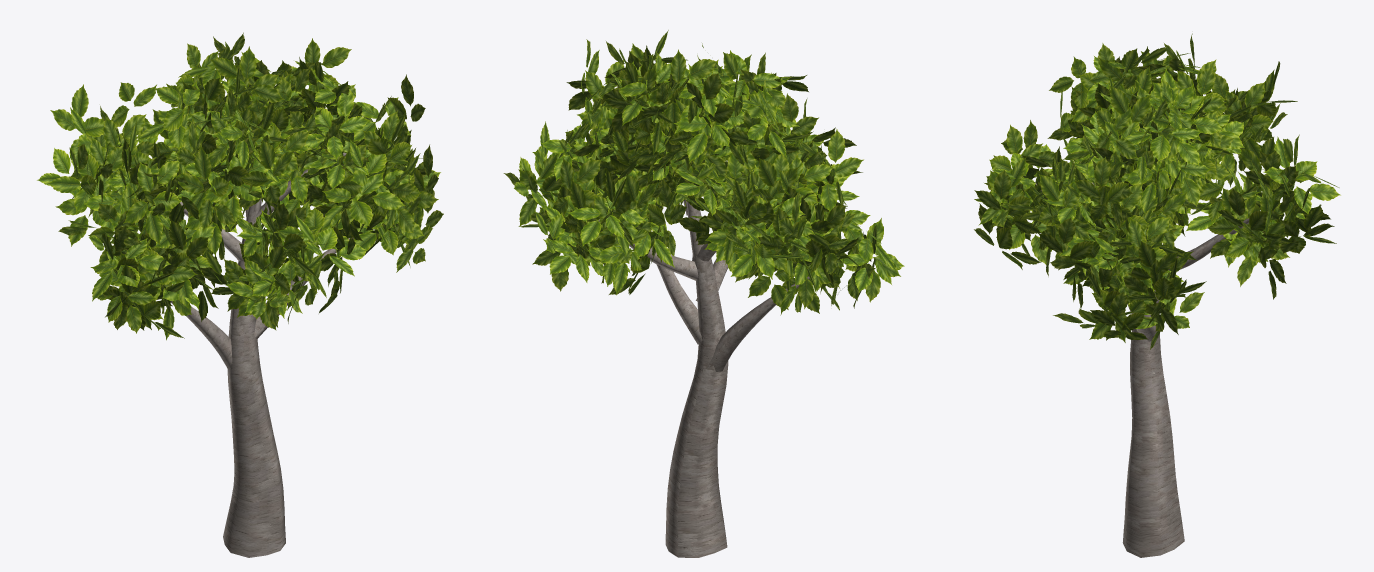
File: cincis-beech-spray-study.glb
The picture shows the model from 3 angles, left to right: view 1: azimuth 30°, elevation 25°; view 2: azimuth 150°, elevation 25°; view 3: azimuth 270°, elevation 25°; orthographic projection. The views are drawn at different scales.
Visible parts, largest first — view 1: Foliage, Trunk and branches; view 2: Foliage, Trunk and branches; view 3: Foliage, Trunk and branches.
Part boxes in pixels (box(x1,y1,x2,y2)): Foliage: box(37, 32, 443, 340); Trunk and branches: box(130, 146, 366, 557); Foliage: box(503, 30, 904, 315); Trunk and branches: box(598, 199, 809, 557); Foliage: box(974, 33, 1340, 349); Trunk and branches: box(1035, 182, 1249, 557).
Bounding box in the file's own units: 6.99 × 8.84 × 6.28.
2 materials, 2 textured.
